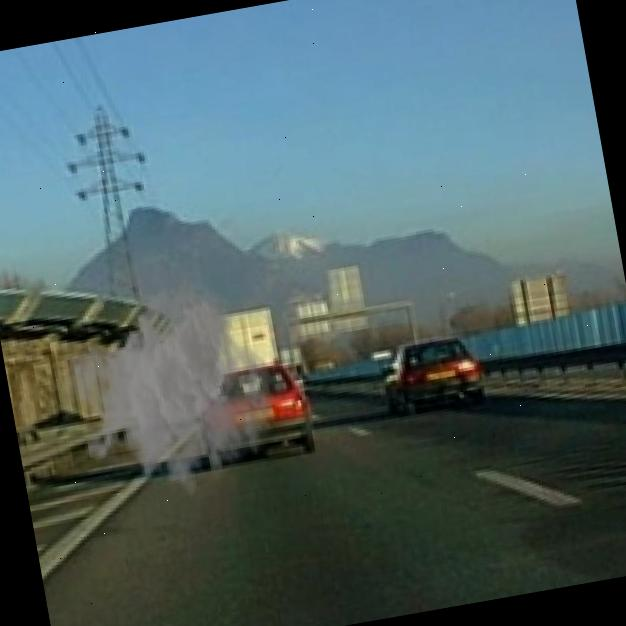smoke: (50, 260, 292, 524)
